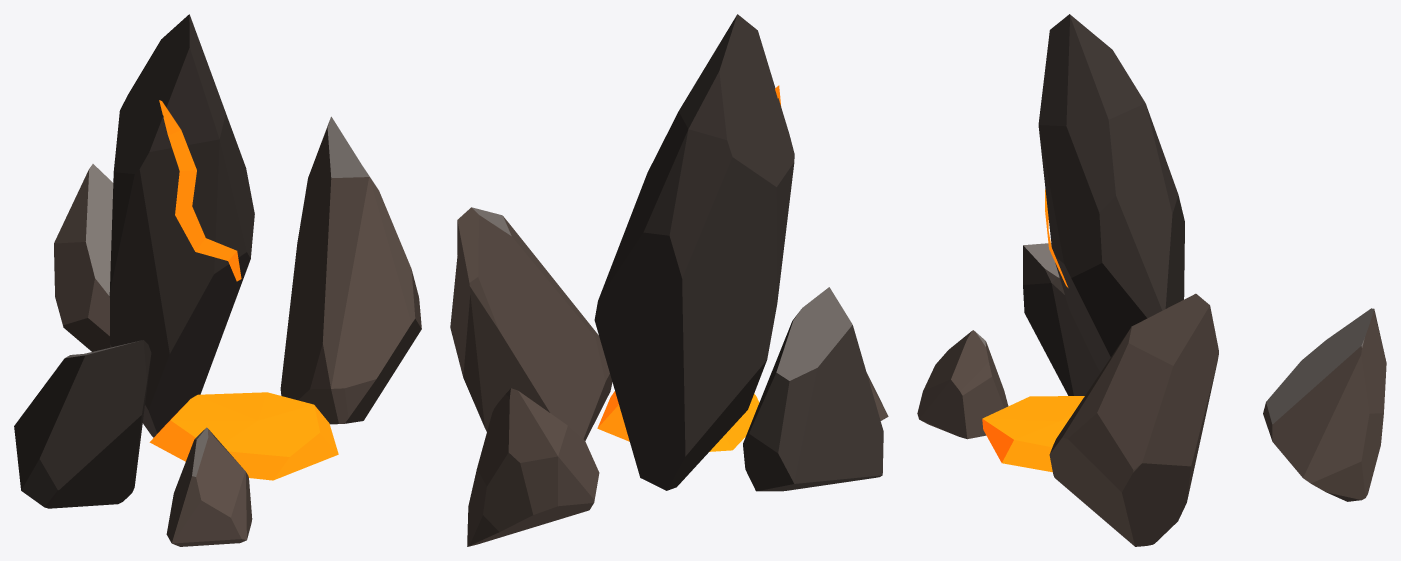
The model's file is lava_rock_c.glb.
3 renders of one model, left to right at view 1: azimuth 30°, elevation 25°; view 2: azimuth 150°, elevation 25°; view 3: azimuth 270°, elevation 25°, orthographic. The views are drawn at different scales.
Visible parts, largest first — view 1: lava_rock_c; view 2: lava_rock_c; view 3: lava_rock_c.
Part boxes in pixels (left/top/right/bottom): lava_rock_c: left=14, top=14, right=421, bottom=546; lava_rock_c: left=450, top=14, right=888, bottom=546; lava_rock_c: left=917, top=14, right=1386, bottom=546.
Size of the model in its own units: 0.8909 by 0.9779 by 0.9372.
